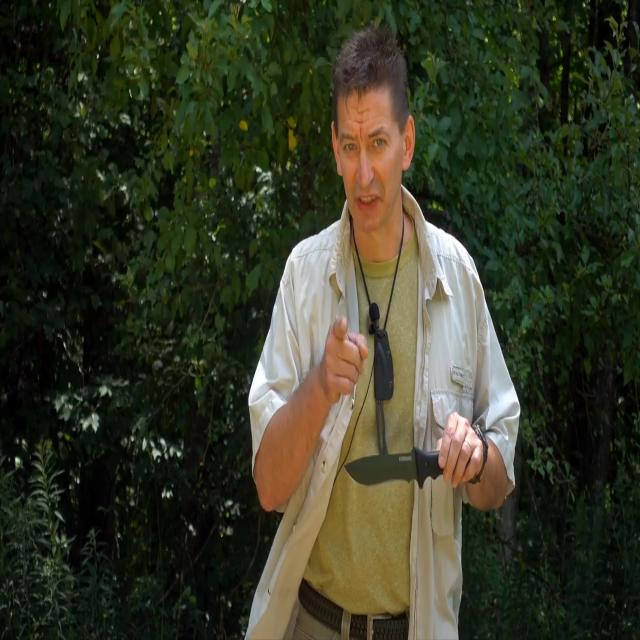knife: (343, 445, 445, 493)
